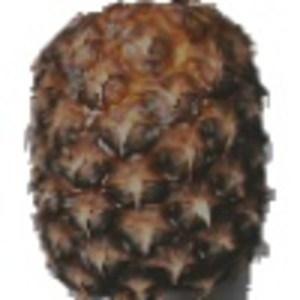abacaxi: (16, 1, 281, 298)
